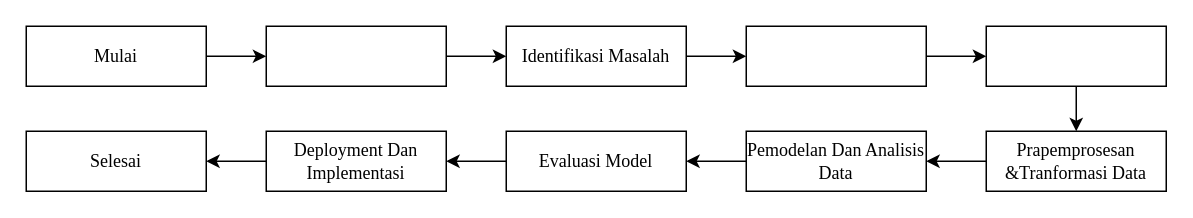
The diagram is 1193 pixels wide and 218 high, and some of its shapes have lost their labels. The box of each missing label's shape, as (x1, y1, x2, y2) in pixels:
Explorasi Data (EDA): (985, 25, 1166, 86)
Melakukan Riset: (265, 25, 446, 86)
Pengumpulan Data: (745, 25, 926, 86)
